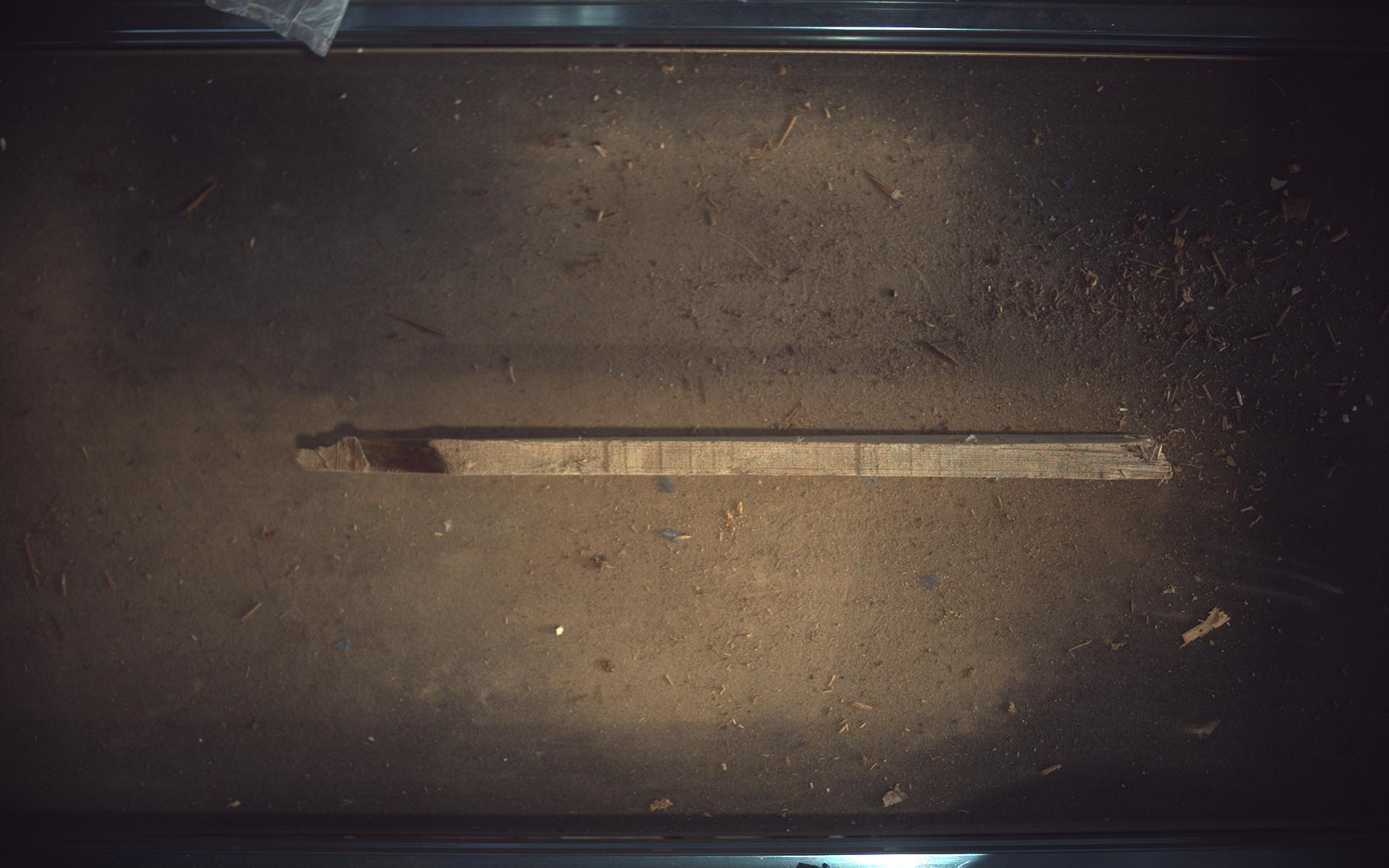wood: (295, 430, 1176, 481)
